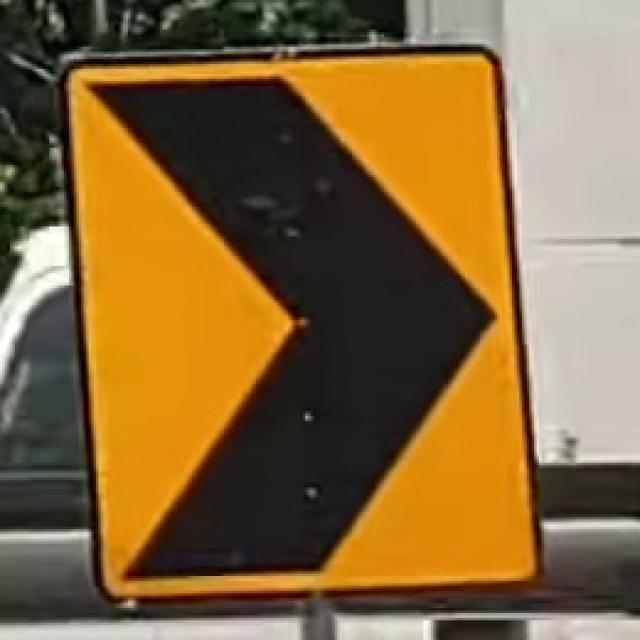curveright_sign: (56, 42, 546, 603)
